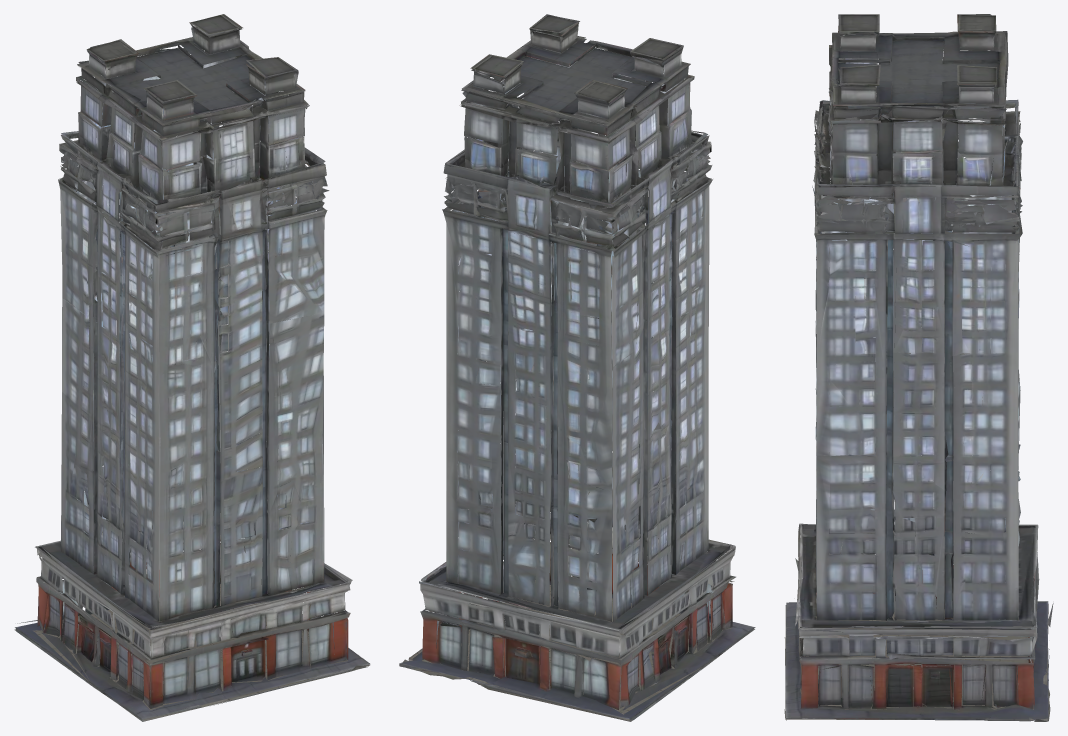
Rendered from tenement-2.glb.
3 views of the same model, side by side, from view 1: azimuth 30°, elevation 25°; view 2: azimuth 150°, elevation 25°; view 3: azimuth 270°, elevation 25° (orthographic). The views are drawn at different scales.
Visible parts, largest first — view 1: Building; view 2: Building; view 3: Building.
Part boxes in pixels (box(x1,y1,x2,y2)): Building: box(14, 14, 370, 721); Building: box(399, 14, 755, 721); Building: box(784, 14, 1053, 721).
Size of the model in its own units: 0.7591 by 1.85 by 0.7302.
Materials: 1 (1 with a texture image).
